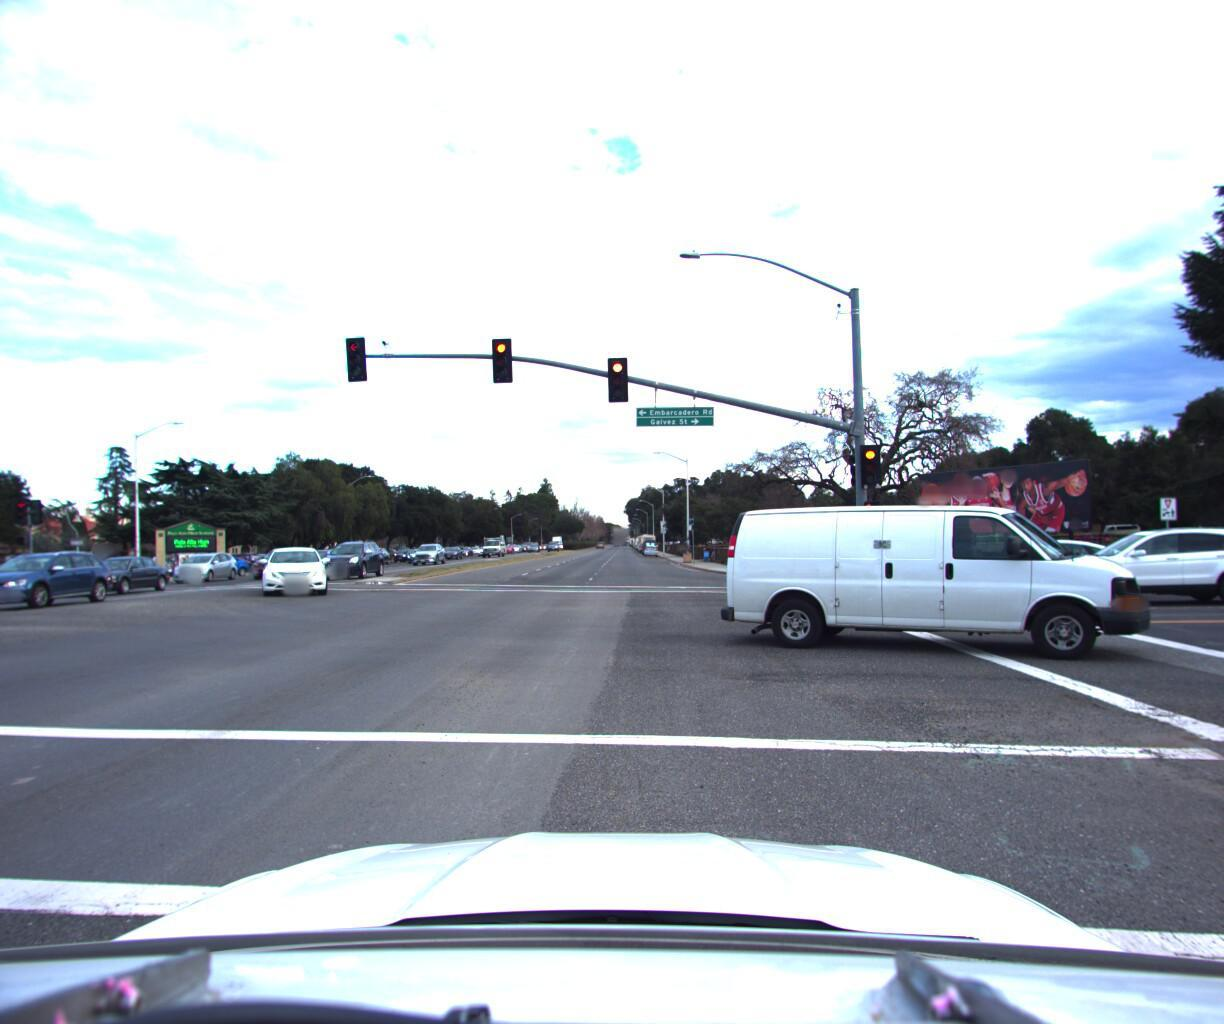car: (713, 487, 1152, 661), (1027, 522, 1224, 601), (925, 531, 1146, 594), (66, 548, 179, 595), (261, 544, 334, 599), (318, 537, 388, 580), (171, 549, 244, 582), (248, 542, 312, 576), (408, 537, 446, 562)
